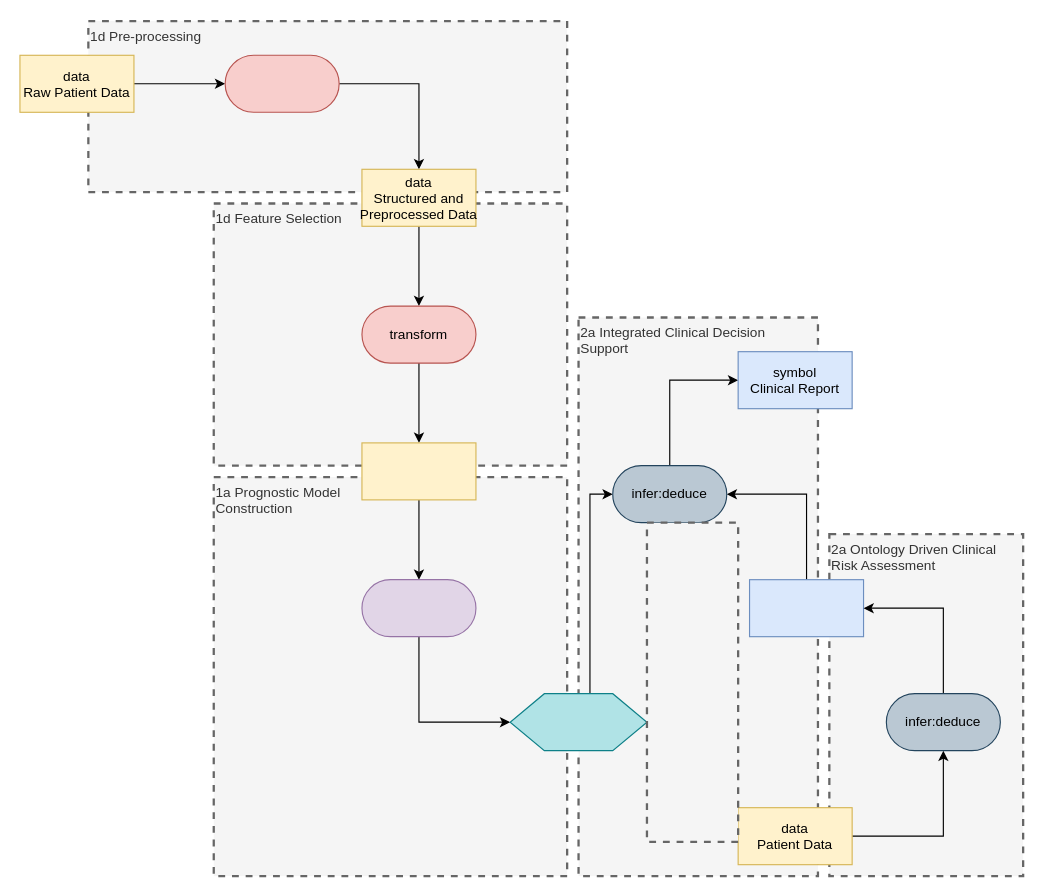
Some shapes in this 1044 by 896 pixel diagram are drawn without their labels. The centre of each missing label's shape, as x and y in pixels:
data Selected Features: pixel 418 471
error ^ |--: pixel 692 681
generate:train: pixel 418 608
model:hybrid MLDP: pixel 578 722
symbol Risk Scores and Recommendations: pixel 806 608
transform:embed: pixel 281 83
